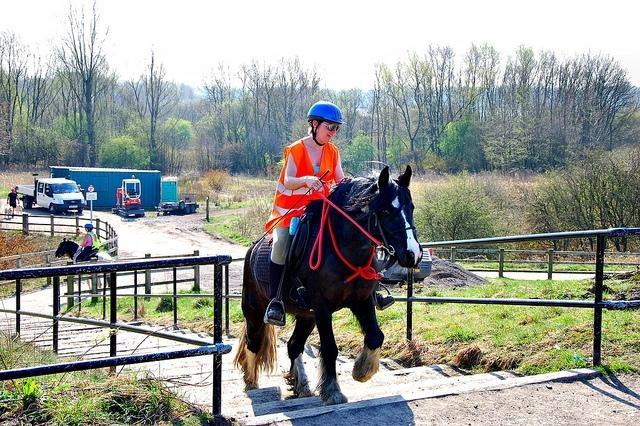truck: (48, 164, 178, 212), (17, 174, 86, 213)
